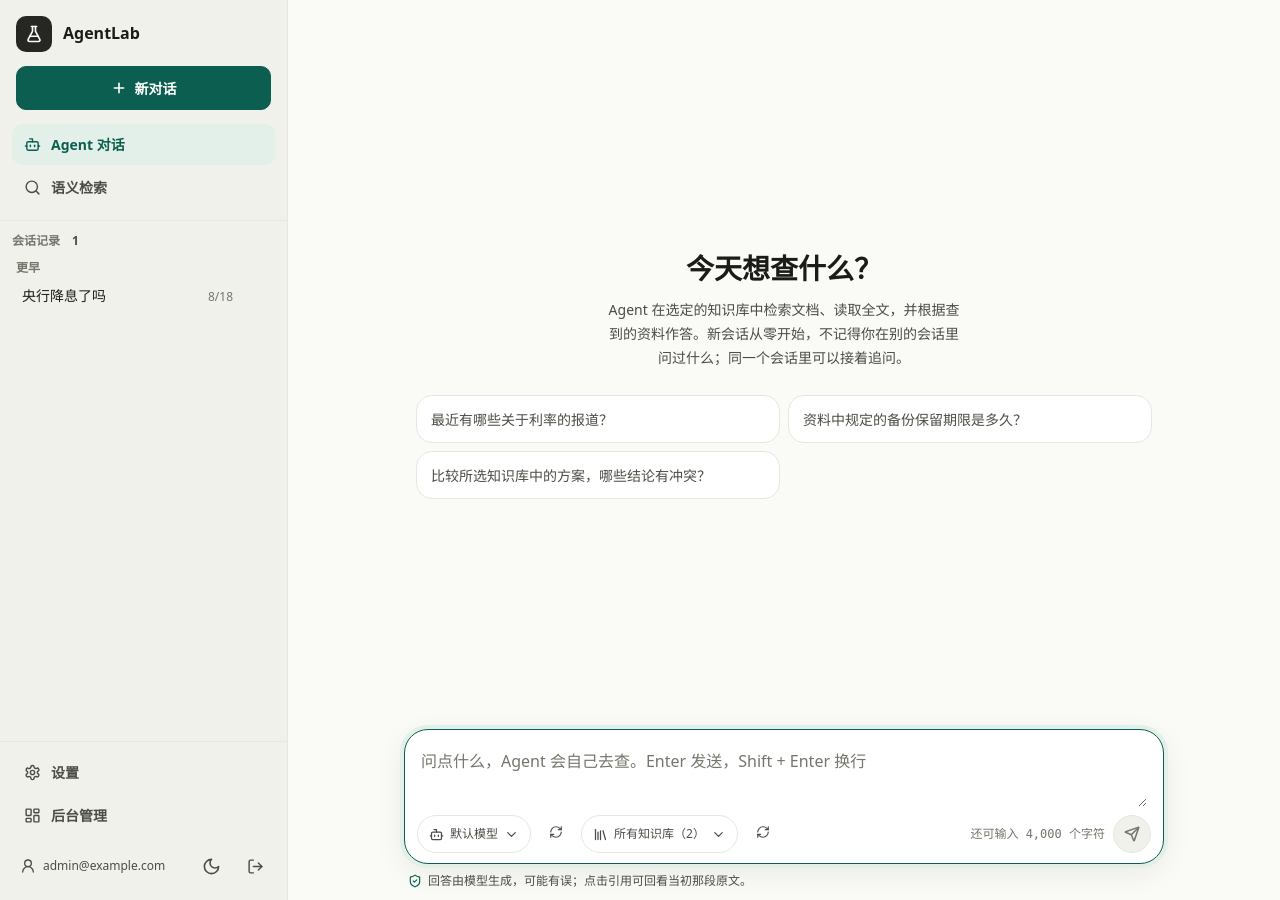
Test: AgentChatPage › 会话记录 › 点侧栏里的会话会改地址，并载入它的历史
Click the button with class "open-button".
click(126, 296)  # box x1=12 y1=280 x2=241 y2=312
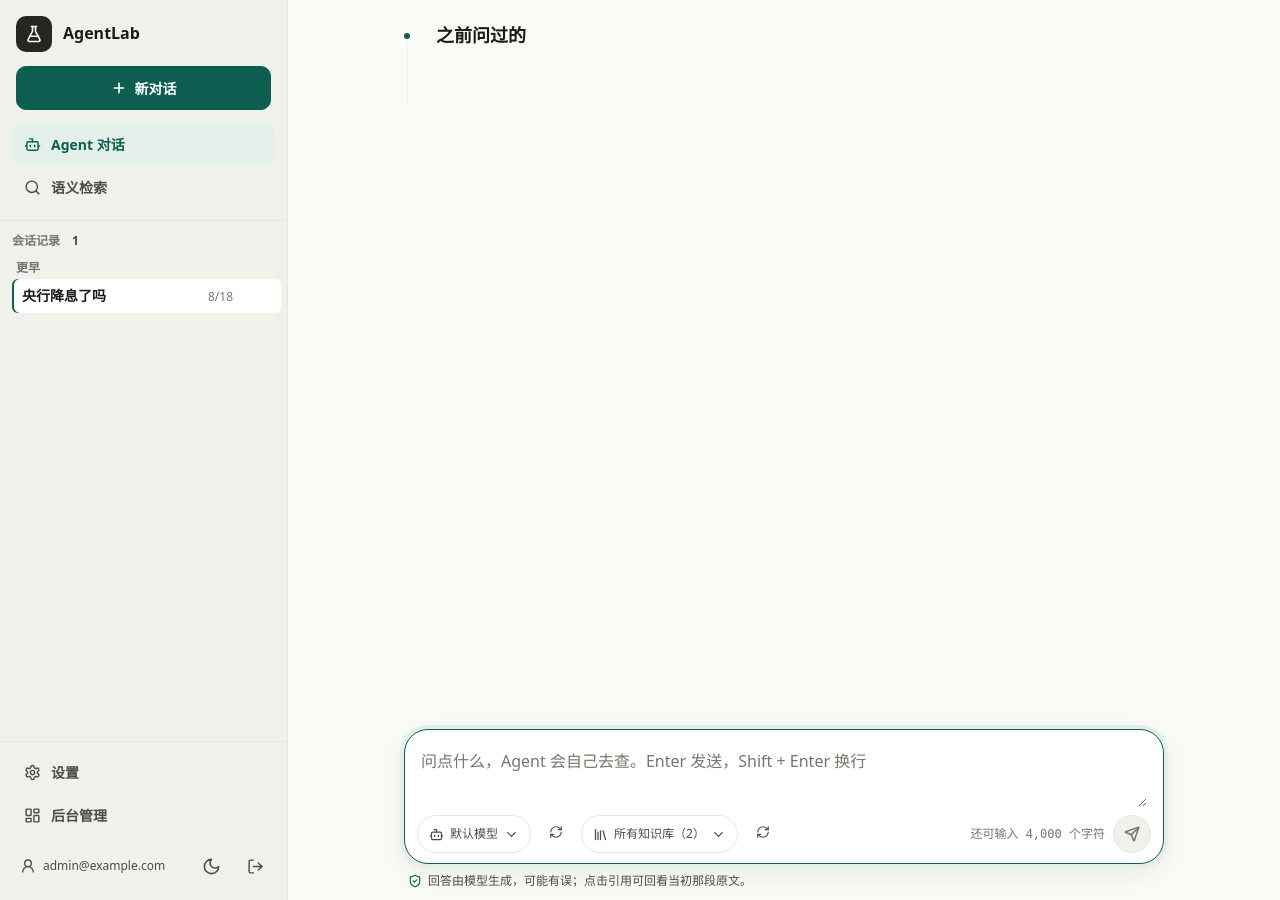
Expected: the text "之前问过的" is shown, x1=436 y1=23 x2=526 y2=47
